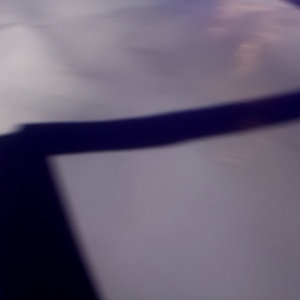bottom_left: (109, 66, 223, 121)
bottom_right: (188, 68, 300, 124)
top_left: (114, 39, 199, 83)
